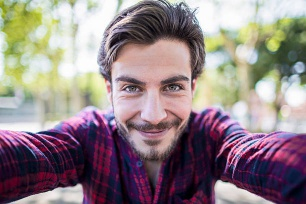male: (100, 31, 195, 164)
